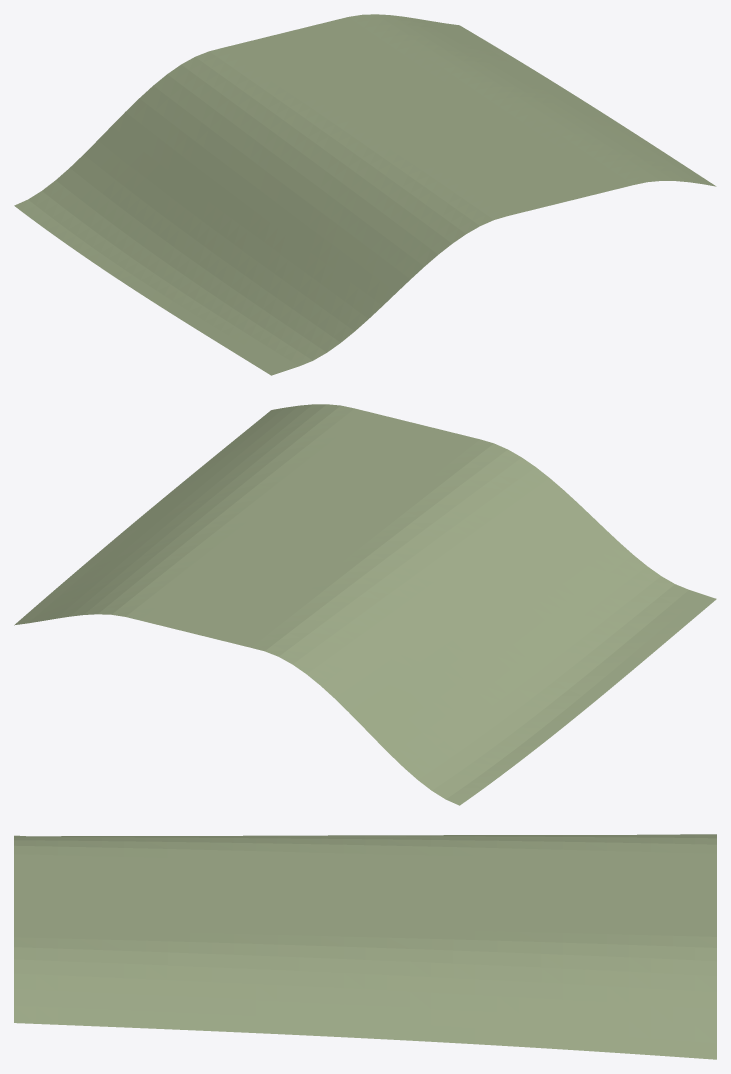
File: alpine-2-4.glb
3 views of the same model, one above another, from view 1: azimuth 30°, elevation 25°; view 2: azimuth 150°, elevation 25°; view 3: azimuth 270°, elevation 25° (orthographic). The views are drawn at different scales.
Visible parts, largest first — view 1: alpine-2-4; view 2: alpine-2-4; view 3: alpine-2-4.
Boxes of the visible parts, x1,y1,x2,y2 form: alpine-2-4: (14,14,716,375); alpine-2-4: (14,404,716,805); alpine-2-4: (14,834,716,1059).
Size of the model in its own units: 256 by 66.41 by 256.
